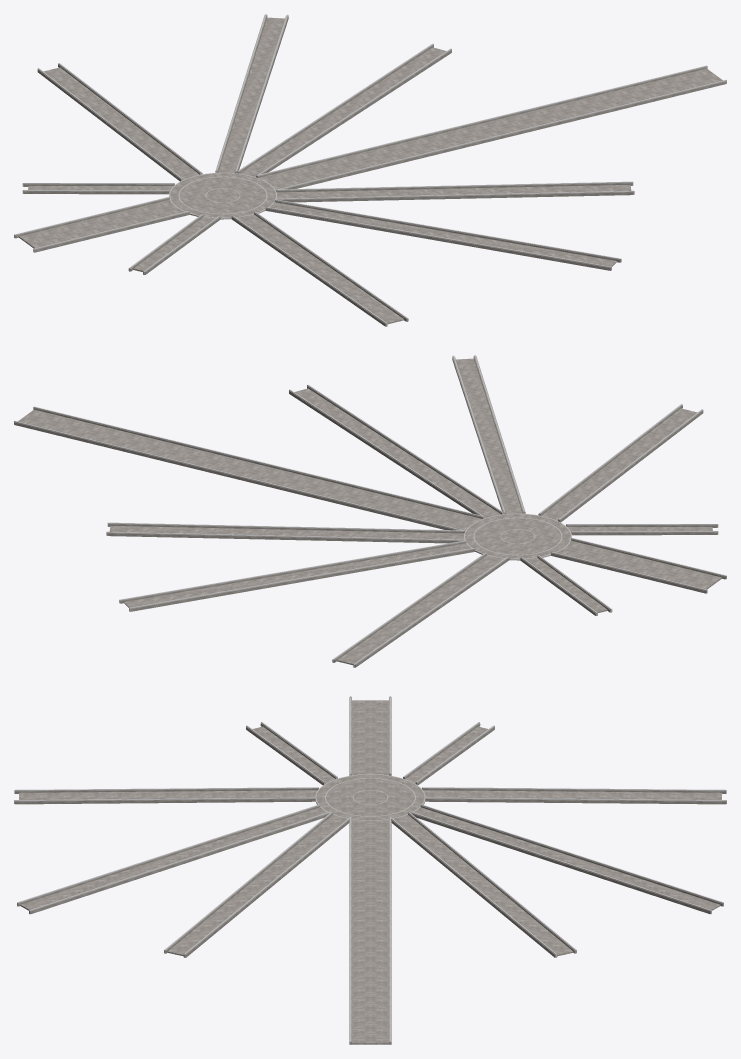
The model's file is SM_ParkCircle.fbx.
3 renders of one model, top to bottom at view 1: azimuth 30°, elevation 25°; view 2: azimuth 150°, elevation 25°; view 3: azimuth 270°, elevation 25°, orthographic. The views are drawn at different scales.
Visible parts, largest first — view 1: SM_ParkCircle_LOD0; view 2: SM_ParkCircle_LOD0; view 3: SM_ParkCircle_LOD0.
Part boxes in pixels (left/top/right/bottom): SM_ParkCircle_LOD0: left=14, top=14, right=726, bottom=326; SM_ParkCircle_LOD0: left=14, top=355, right=726, bottom=667; SM_ParkCircle_LOD0: left=14, top=696, right=726, bottom=1044.
Size of the model in its own units: 6044 by 29.25 by 5272.
